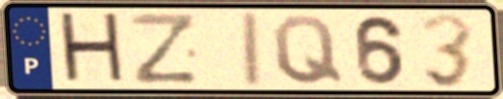3: (418, 11, 481, 90)
6: (353, 14, 406, 87)
H: (56, 10, 130, 88)
I: (240, 9, 266, 90)
Q: (270, 13, 347, 87)
Z: (128, 11, 201, 87)
